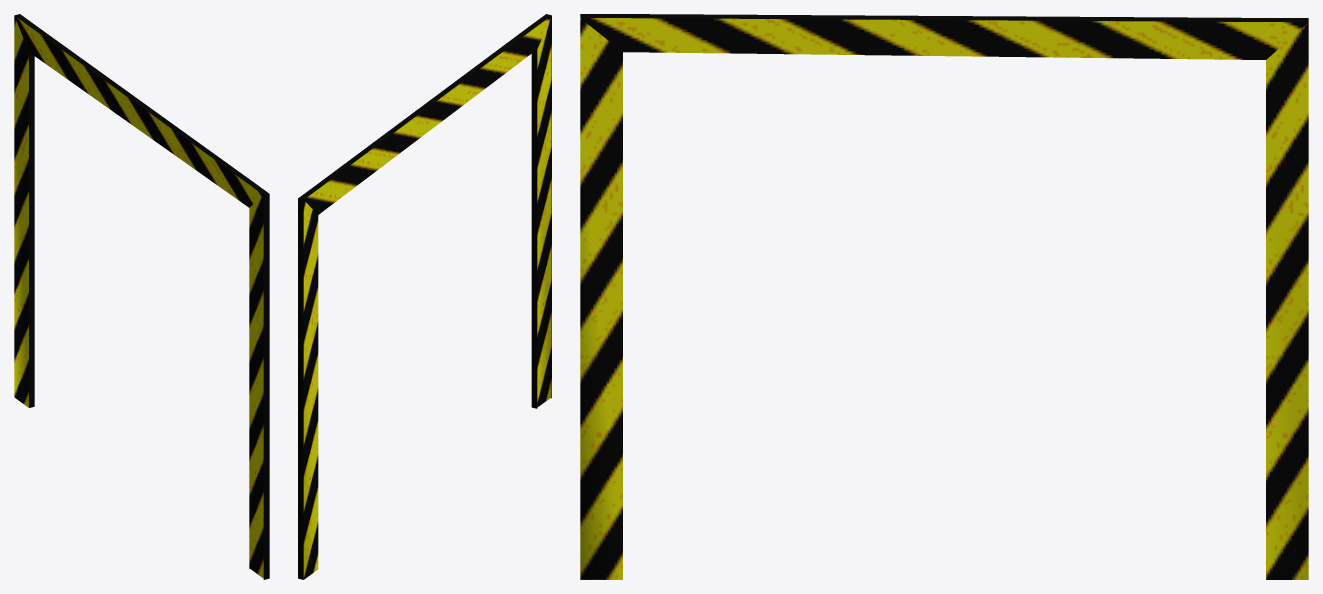
File: faixadeatençaogaragem.fbx
3 views of the same model, side by side, from view 1: azimuth 30°, elevation 25°; view 2: azimuth 150°, elevation 25°; view 3: azimuth 270°, elevation 25° (orthographic). The views are drawn at different scales.
Visible parts, largest first — view 1: Parede 2x4.25; view 2: Parede 2x4.25; view 3: Parede 2x4.25.
Part boxes in pixels (x1,y1,x2,y2): Parede 2x4.25: (14,14,269,579); Parede 2x4.25: (298,14,551,579); Parede 2x4.25: (580,14,1308,579).
Bounding box in the file's own units: 8.08 × 515 × 605.
1 material, 1 textured.
